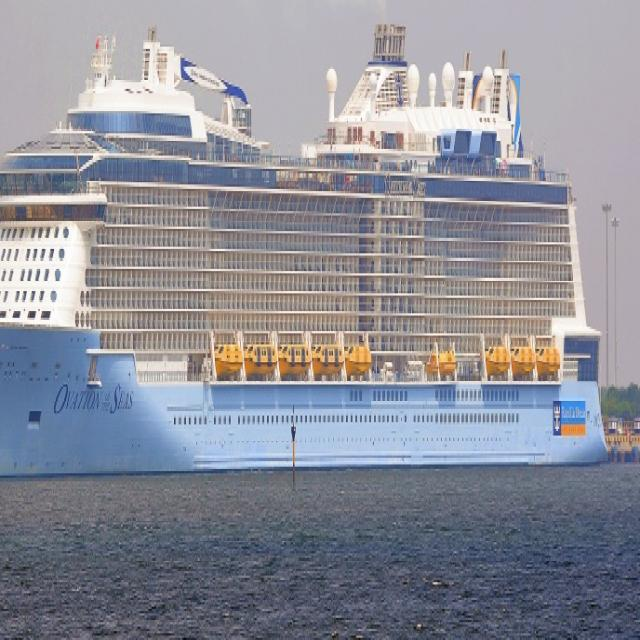cruises: (1, 6, 613, 477)
